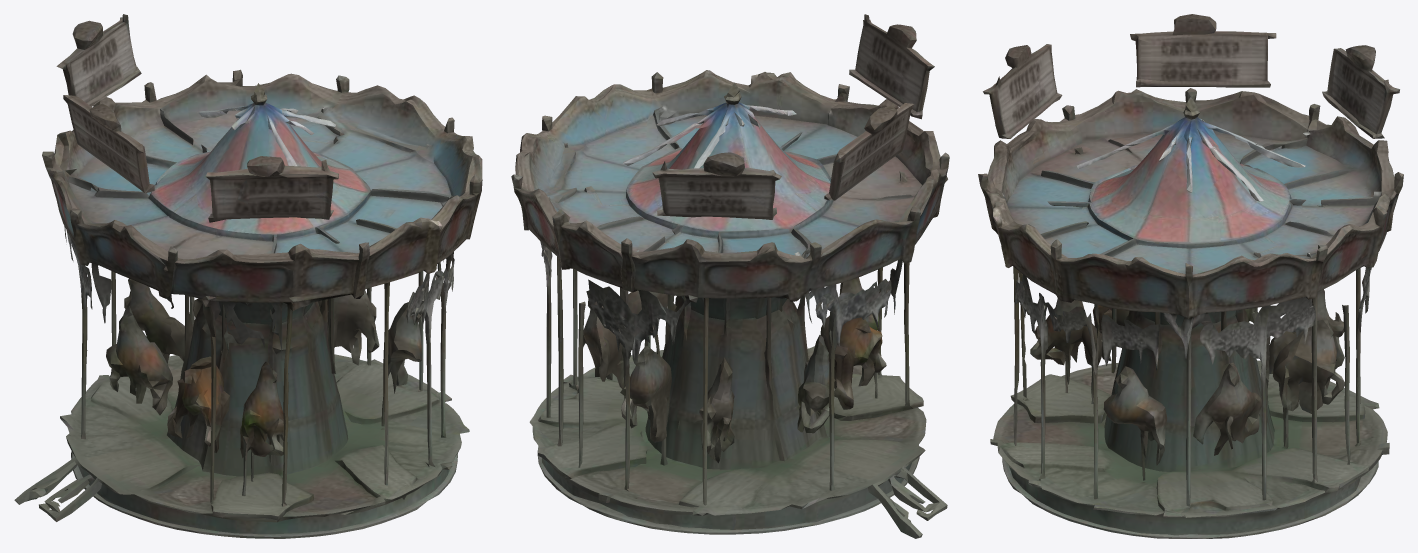
The model's file is hauntedcarousel.glb.
3 renders of one model, left to right at view 1: azimuth 30°, elevation 25°; view 2: azimuth 150°, elevation 25°; view 3: azimuth 270°, elevation 25°, orthographic. The views are drawn at different scales.
Parts seen in each view (by area): view 1: mesh; view 2: mesh; view 3: mesh.
Part boxes in pixels (<box>): mesh: <box>14,14,482,538</box>; mesh: <box>511,14,949,538</box>; mesh: <box>978,14,1403,538</box>.
Bounding box in the file's own units: 1 × 0.9312 × 0.9361.
Materials: 1 (1 with a texture image).
